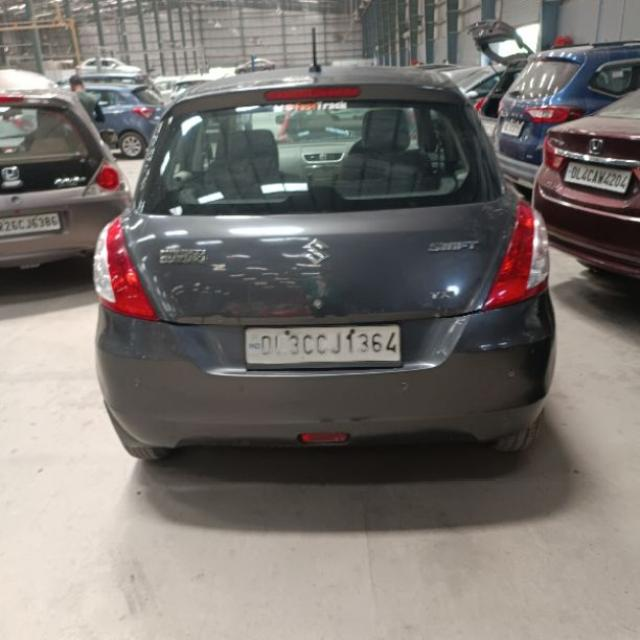license_plate: (242, 322, 402, 369), (562, 159, 632, 193), (0, 210, 61, 237)
